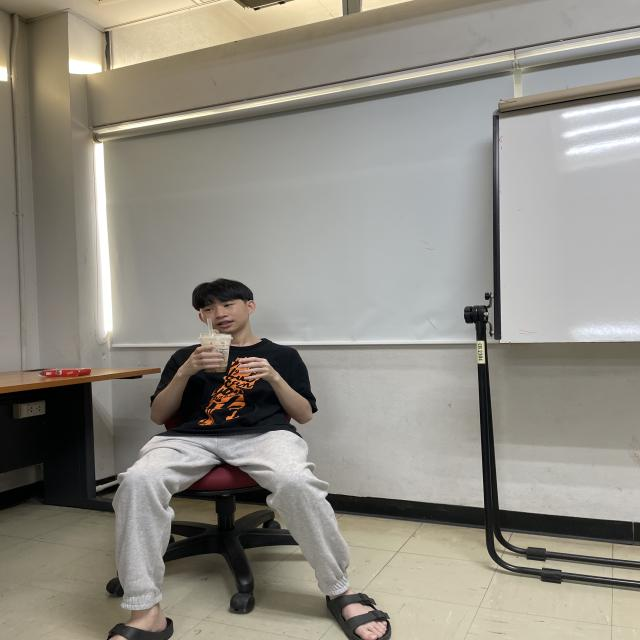cup: (196, 333, 234, 373)
